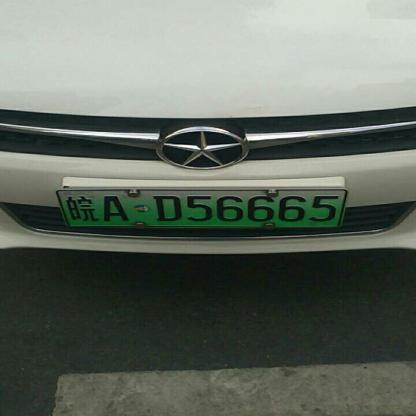lp: (55, 190, 70, 226)
